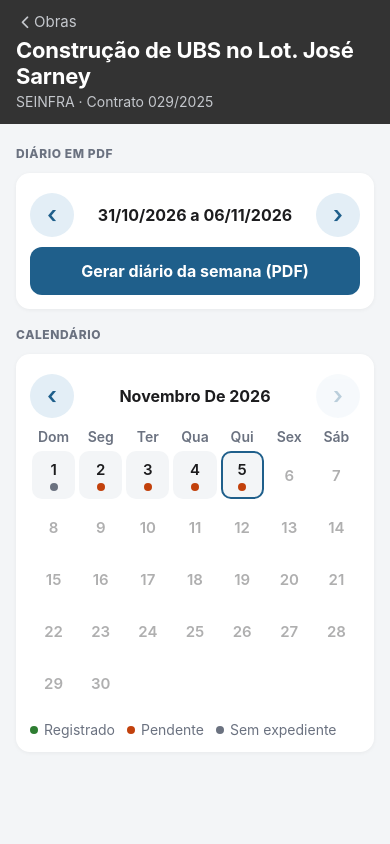
Test case: DiasObraTela — escolha de período › semanal: navega entre semanas e gera a semana mostrada
Later steps or results of the test are not shown.
Expected: the text with test id "periodo-rotulo" reads "31/10/2026 a 06/11/2026", [98,205,292,225]
Click the element with test id "periodo-anterior".
click(52, 215)  # box [30,193,74,237]
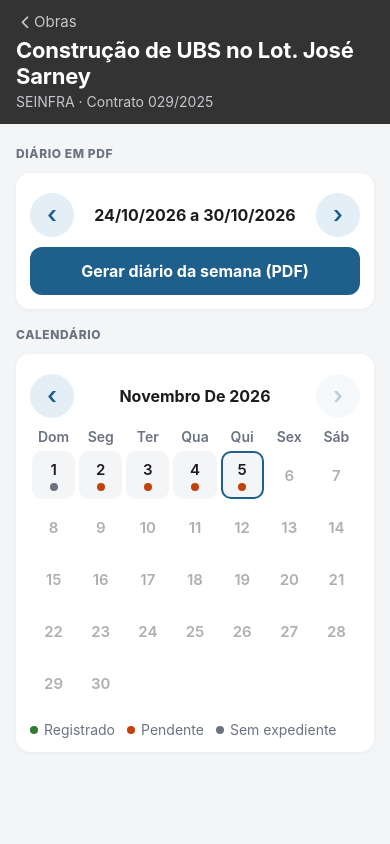
Expected: the text with test id "periodo-rotulo" reads "24/10/2026 a 30/10/2026", [94,205,296,225]
